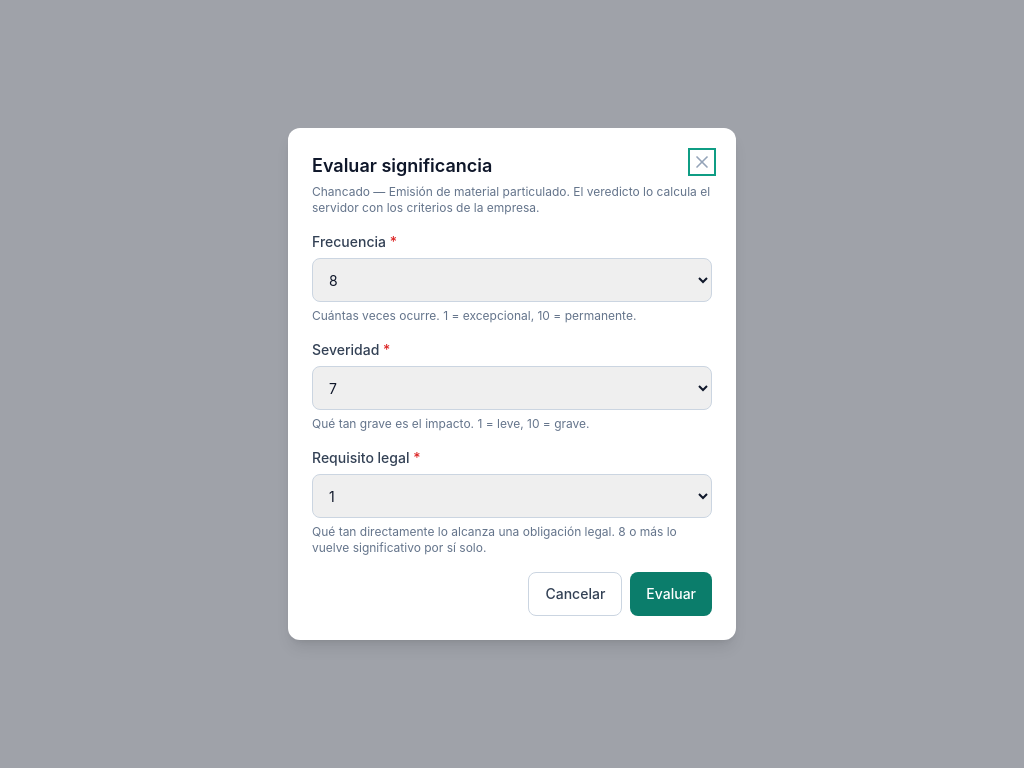
Test: evaluar un aspecto › muestra el veredicto con sus motivos
This screenshot has width=1024, height=768.
Step 1. Click the button "Evaluar" → (671, 594), box [630,572,712,616]
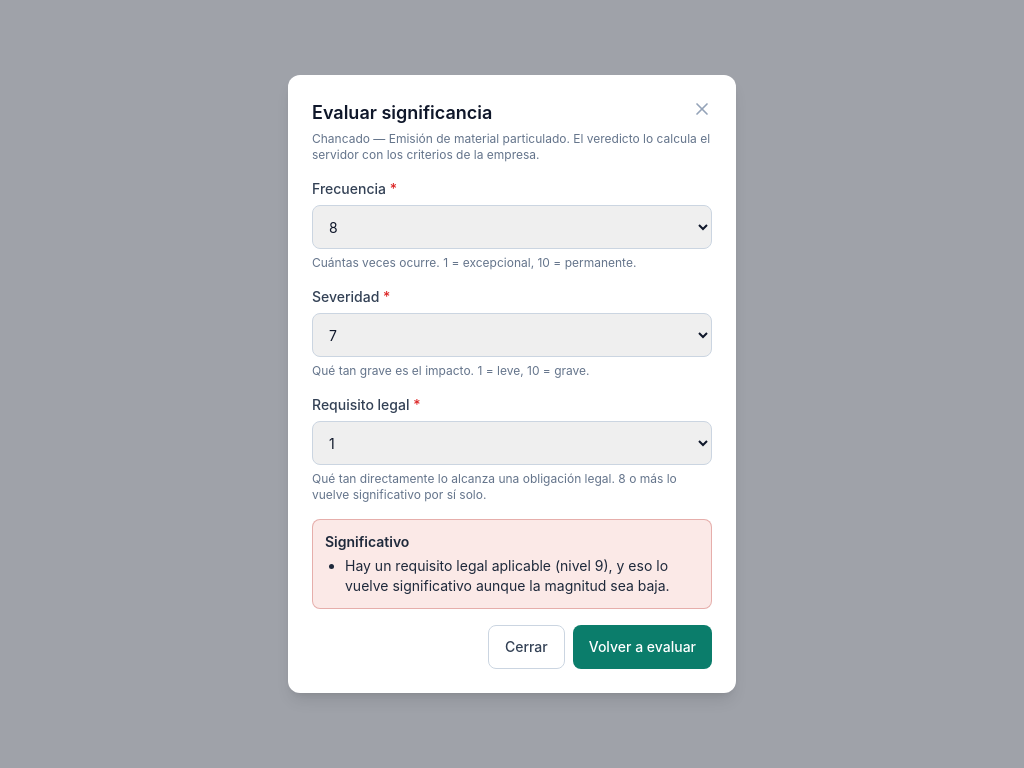
Check: the message shows "Significativo", box [325,533,409,550]
Check: the message shows "requisito legal aplicable", box [345,557,670,594]
